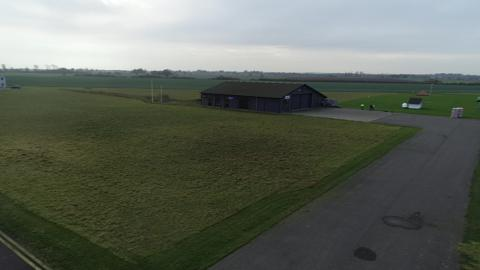RockwoolPallet: (451, 104, 461, 119)
